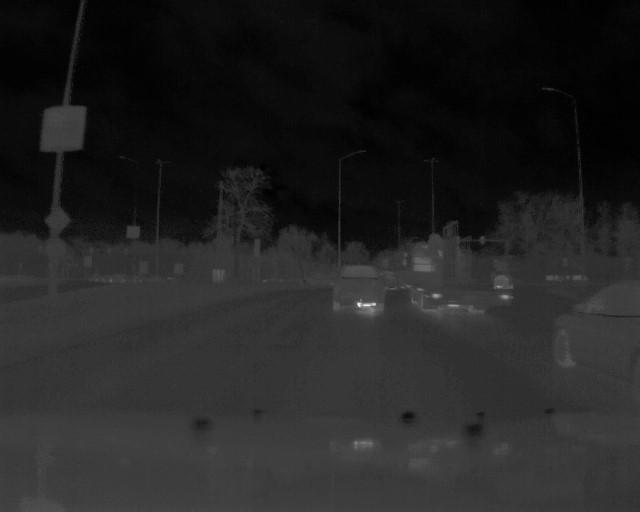car: (399, 215, 518, 327), (545, 267, 640, 375), (328, 257, 388, 315)
